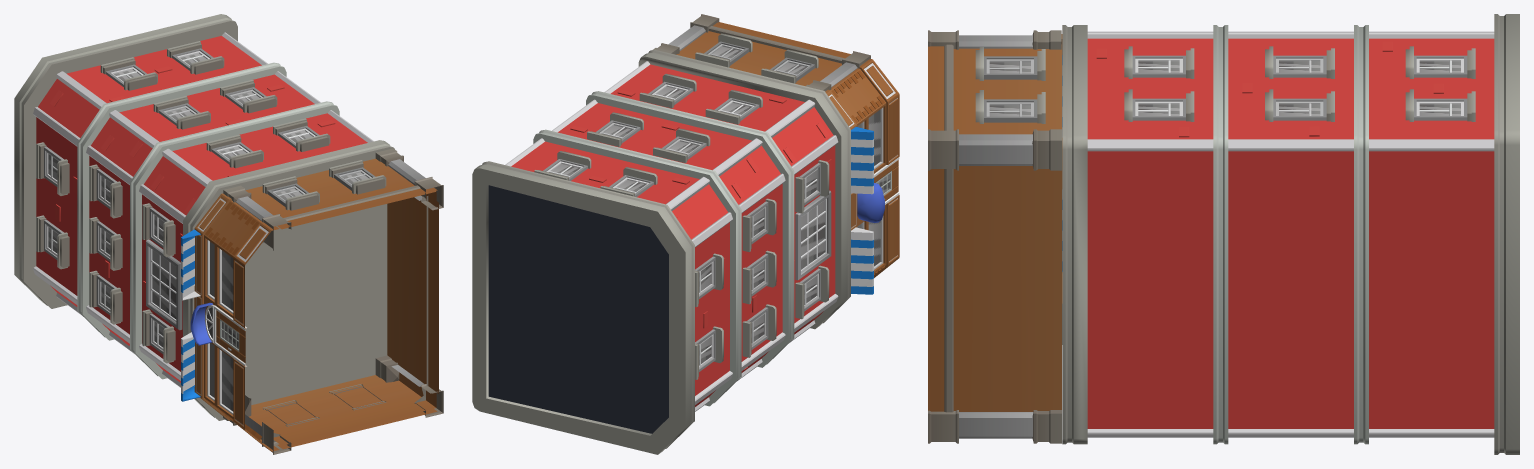
File: Building_3_3_J.glb
3 renders of one model, left to right at view 1: azimuth 30°, elevation 25°; view 2: azimuth 150°, elevation 25°; view 3: azimuth 270°, elevation 25°, orthographic. The views are drawn at different scales.
Parts seen in each view (by area): view 1: Building 3_3_J; view 2: Building 3_3_J; view 3: Building 3_3_J.
Part boxes in pixels (x1,y1,x2,y2): Building 3_3_J: [14, 14, 443, 454]; Building 3_3_J: [472, 14, 899, 454]; Building 3_3_J: [928, 14, 1519, 454].
Bounding box in the file's own units: 8.08 × 8.37 × 13.83.
Materials: 4 (4 with a texture image).
